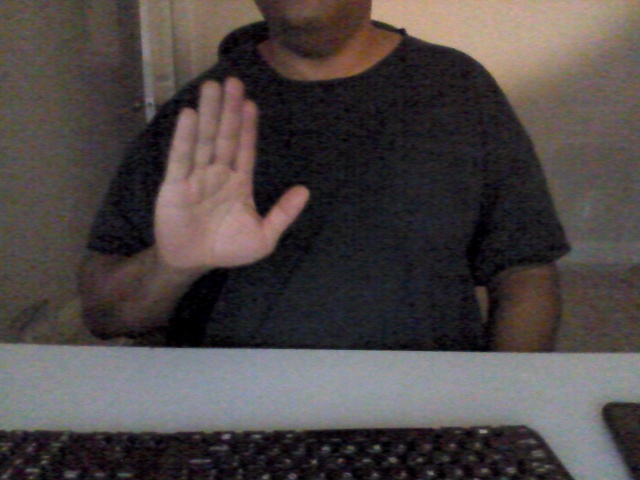hello: (152, 73, 324, 284)
